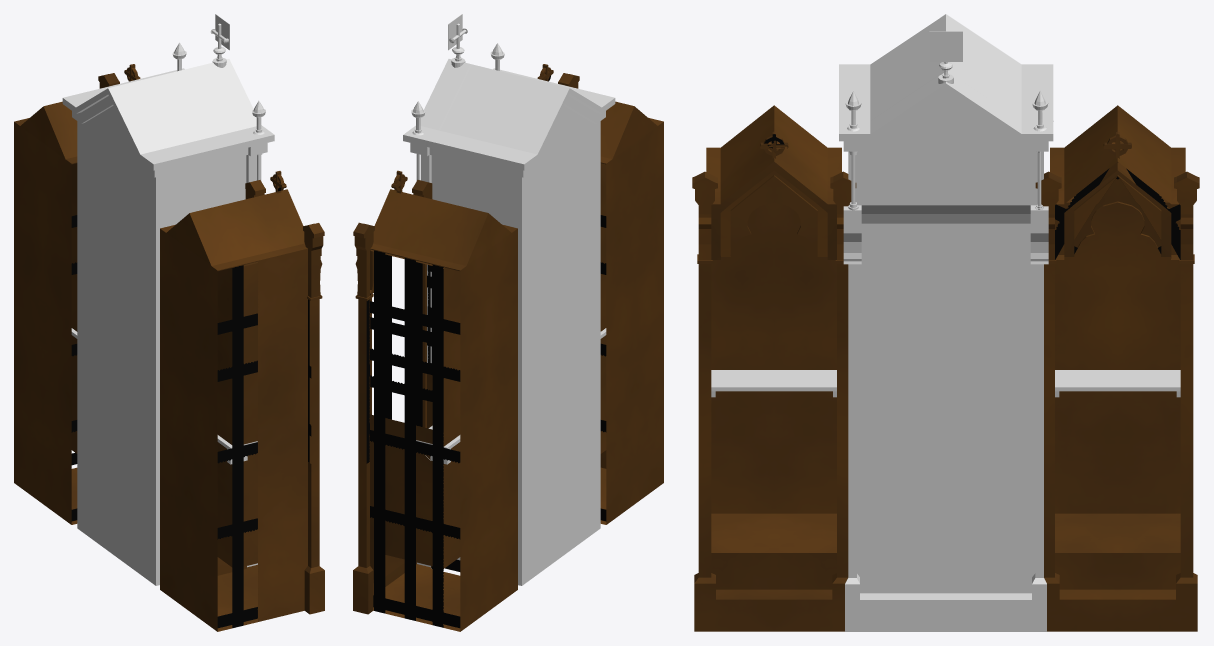
File: Transparency test.fbx
The picture shows the model from 3 angles, left to right: view 1: azimuth 30°, elevation 25°; view 2: azimuth 150°, elevation 25°; view 3: azimuth 270°, elevation 25°; orthographic projection. The views are drawn at different scales.
Visible parts, largest first — view 1: Cube.004, Cube, Cube.015; view 2: Cube.015, Cube, Cube.004; view 3: Cube, Cube.004, Cube.015, Cube.017, Cube.013, Plane.
Boxes of the visible parts, x1=… form: Cube.004: x1=160, y1=180, x2=324, y2=631; Cube: x1=62, y1=59, x2=274, y2=585; Cube.015: x1=14, y1=73, x2=119, y2=524; Cube.015: x1=353, y1=180, x2=517, y2=631; Cube: x1=403, y1=59, x2=615, y2=585; Cube.004: x1=558, y1=73, x2=663, y2=524; Cube: x1=839, y1=14, x2=1053, y2=631; Cube.004: x1=692, y1=105, x2=856, y2=631; Cube.015: x1=1035, y1=105, x2=1199, y2=631; Cube.017: x1=1055, y1=370, x2=1180, y2=397; Cube.013: x1=711, y1=370, x2=836, y2=397; Plane: x1=929, y1=31, x2=962, y2=61.
Size of the model in its own units: 712 by 2876 by 2196.
